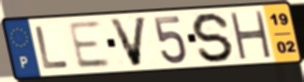5: (150, 14, 189, 65)
E: (66, 19, 113, 71)
H: (227, 11, 273, 60)
L: (33, 25, 72, 71)
S: (190, 11, 236, 64)
V: (107, 15, 150, 69)
